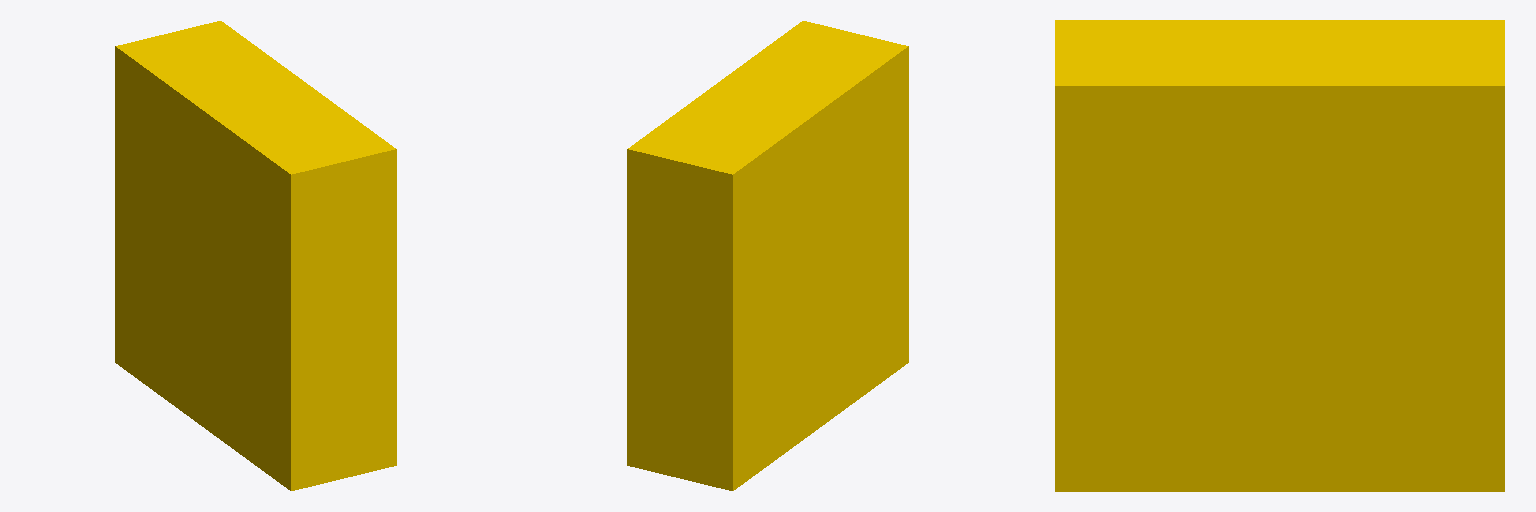
robot.urdf — cube:
<?xml version="1.0"?>
 <robot name="cube">
   <material name="golden">
     <color rgba="1 0.843 0 1"/>
   </material>
   <link name="base_link">
     <visual>
       <geometry>
         <box size="0.027 0.0778 0.0774"/>
       </geometry>
       <material name="golden"/>
     </visual>
     <inertial>
       <mass value="0"/>
       <inertia ixx="1.0" ixy="0.0" ixz="0.0" iyy="1.0" iyz="0.0" izz="1.0"/>
     </inertial>
   </link>
 </robot>

--- Facts derived from the render (not from the file) ---
The picture shows the robot from 3 angles, left to right: view 1: azimuth 30°, elevation 25°; view 2: azimuth 150°, elevation 25°; view 3: azimuth 270°, elevation 25°; orthographic projection.
Model cube with 1 links and 0 joints (none), rooted at base_link, posed every joint at zero.
Links seen in each view (by area): view 1: base_link; view 2: base_link; view 3: base_link.
Link boxes in pixels (bbox=[...]): base_link: bbox=[115, 21, 396, 490]; base_link: bbox=[627, 21, 908, 490]; base_link: bbox=[1055, 20, 1504, 491].
Bounding box of the posed robot: 0.027 × 0.0778 × 0.0774 m (x, y, z).
Geometry: primitives only (box / cylinder / sphere), no mesh files.